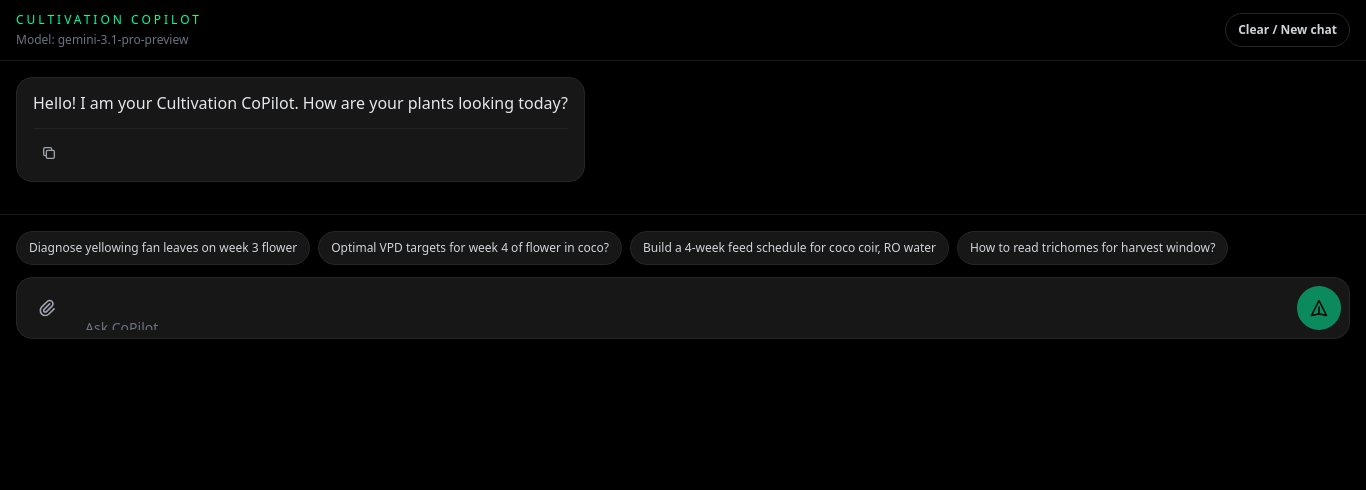
Test: ChatInterface › shows a retry button when streaming fails
The width and height of the screenshot is (1366, 490).
Type "hi" into the text box with placeholder "Ask CoPilot...". click: (683, 318)
box: x1=77 y1=306 x2=1289 y2=330
Then press Enter
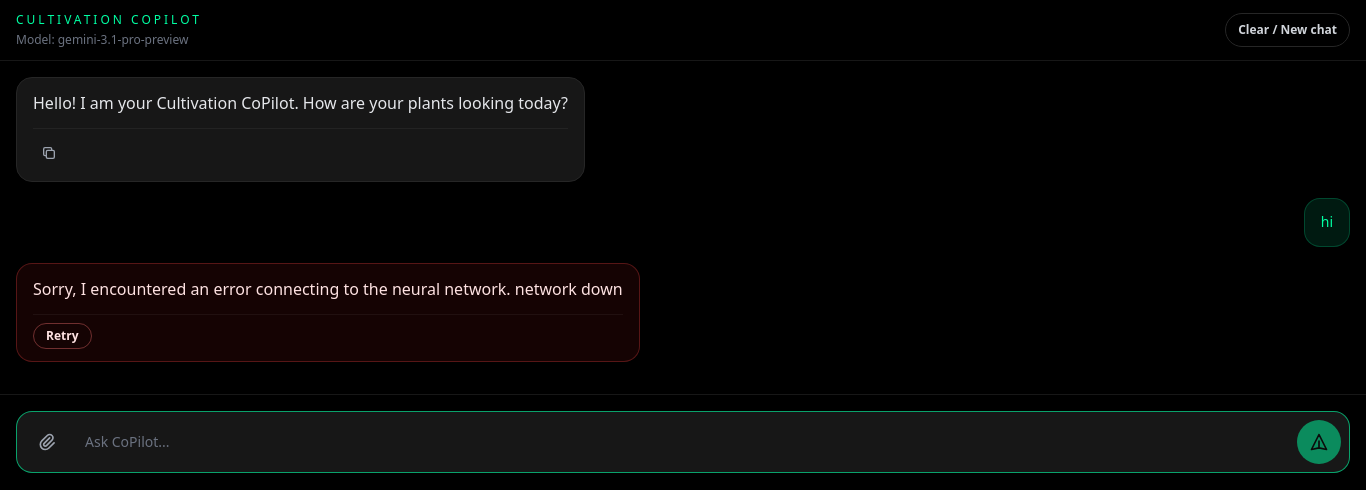
Expected: the button "Retry" is shown, x1=33 y1=323 x2=92 y2=349
